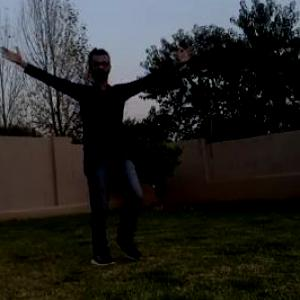takeoff: (1, 56, 176, 268)
